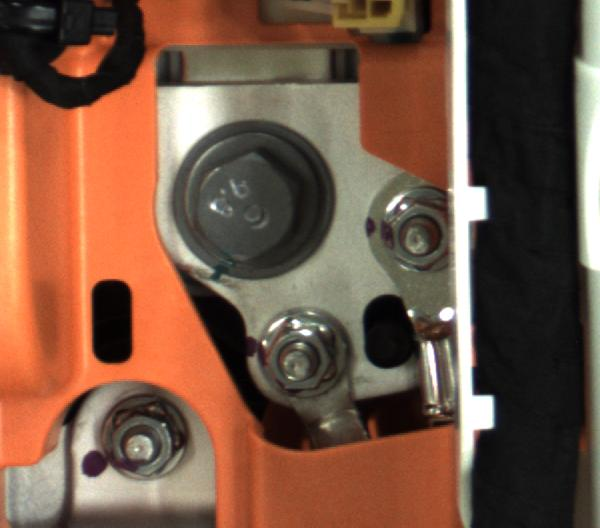nut_b: (165, 114, 324, 276)
screw_s: (249, 312, 351, 402), (365, 184, 456, 273), (104, 397, 183, 483)
